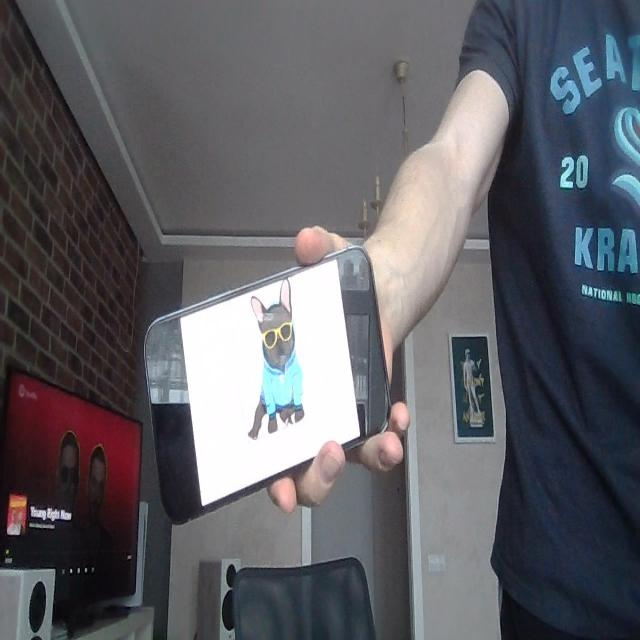device: (142, 245, 396, 526)
